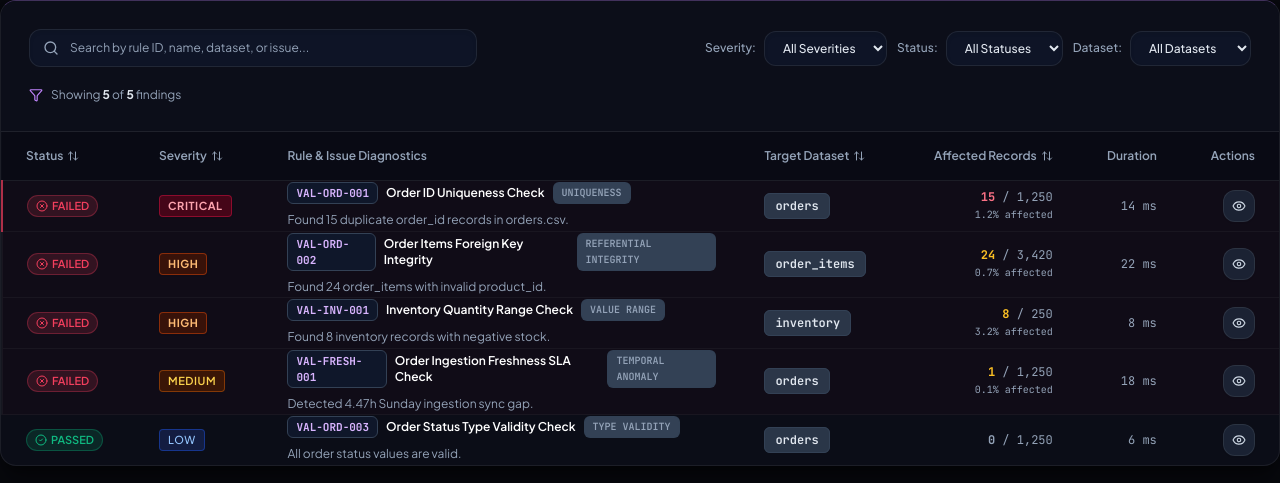
Scenario: FindingsTable Component › acceptance criterion: filtering by CRITICAL isolates duplicate order checks
Select "CRITICAL" in the dropdown with test id "filter-severity" at x=825, y=48, box [764,30,887,66]
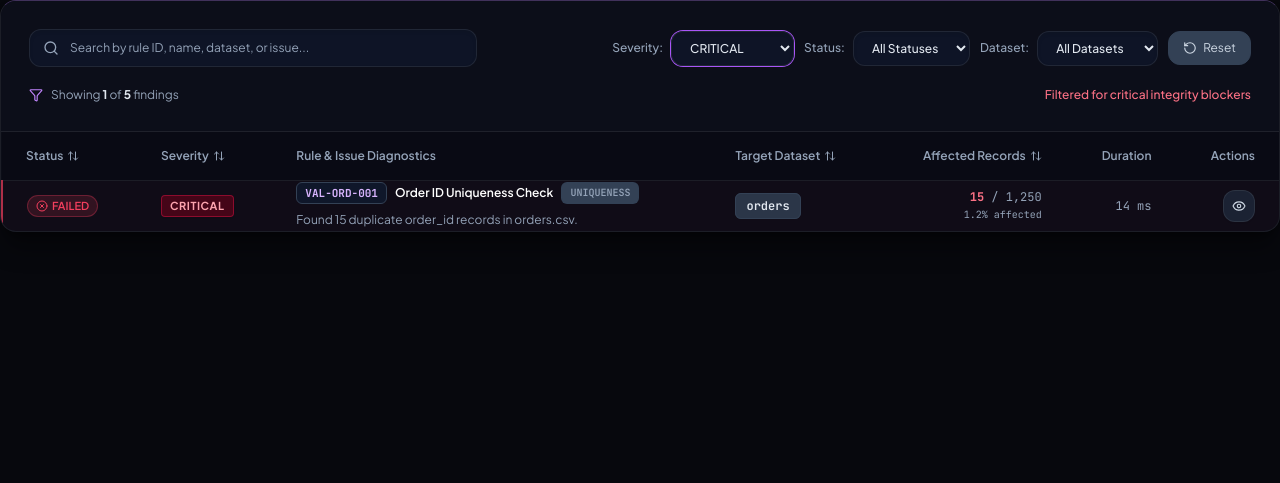
Expected: the row with test id "finding-row-VAL-ORD-002" is gone
Expected: the row with test id "finding-row-VAL-INV-001" is gone
Expected: the row with test id "finding-row-VAL-FRESH-001" is gone
